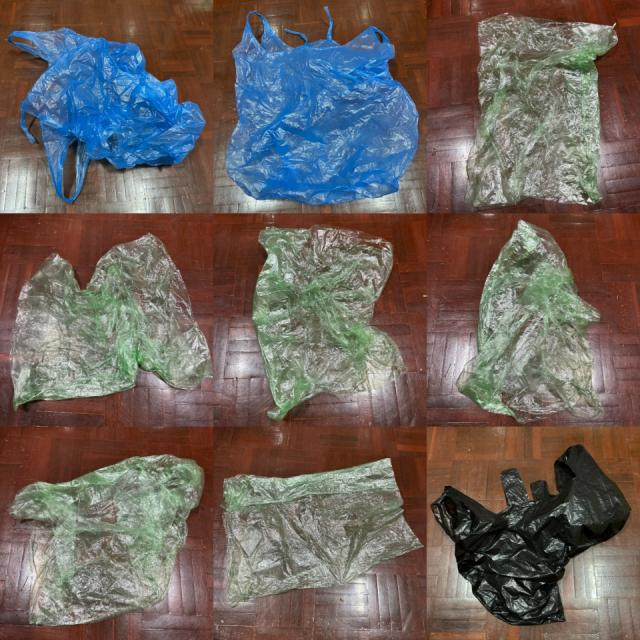Single-layer Plastic: (226, 8, 419, 205), (431, 445, 631, 624), (10, 234, 211, 408), (8, 28, 205, 202), (10, 455, 204, 625), (252, 225, 406, 421), (456, 220, 604, 423), (465, 14, 618, 208), (221, 459, 421, 606)
